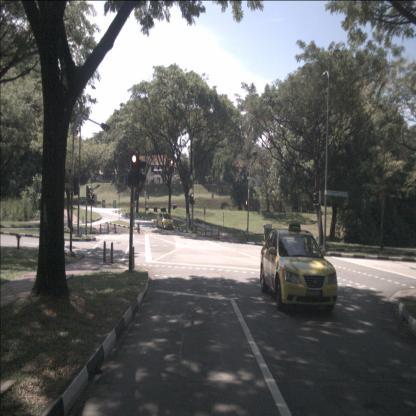vehicle-car: (260, 228, 338, 314), (156, 212, 174, 230)
